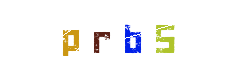5: (92, 0, 172, 80)
B: (85, 0, 165, 80)
P: (59, 0, 139, 80)
R: (79, 0, 159, 80)
